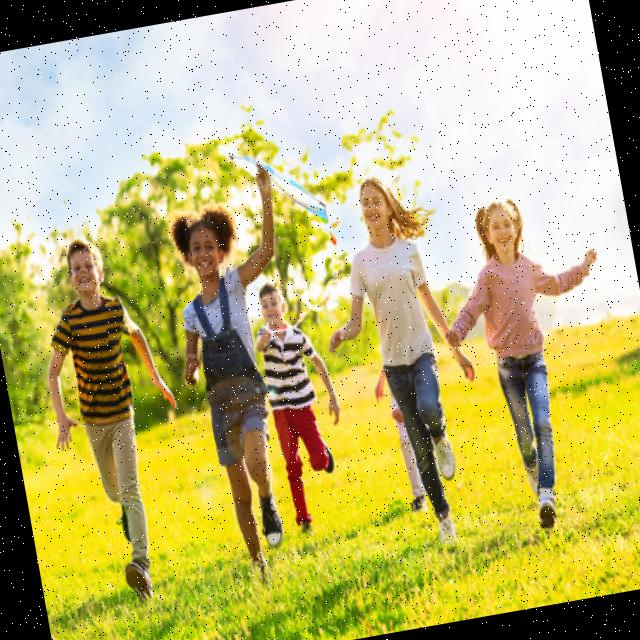Person: (302, 165, 502, 564), (150, 163, 338, 582), (424, 186, 640, 539), (21, 228, 208, 612), (248, 274, 357, 533)
